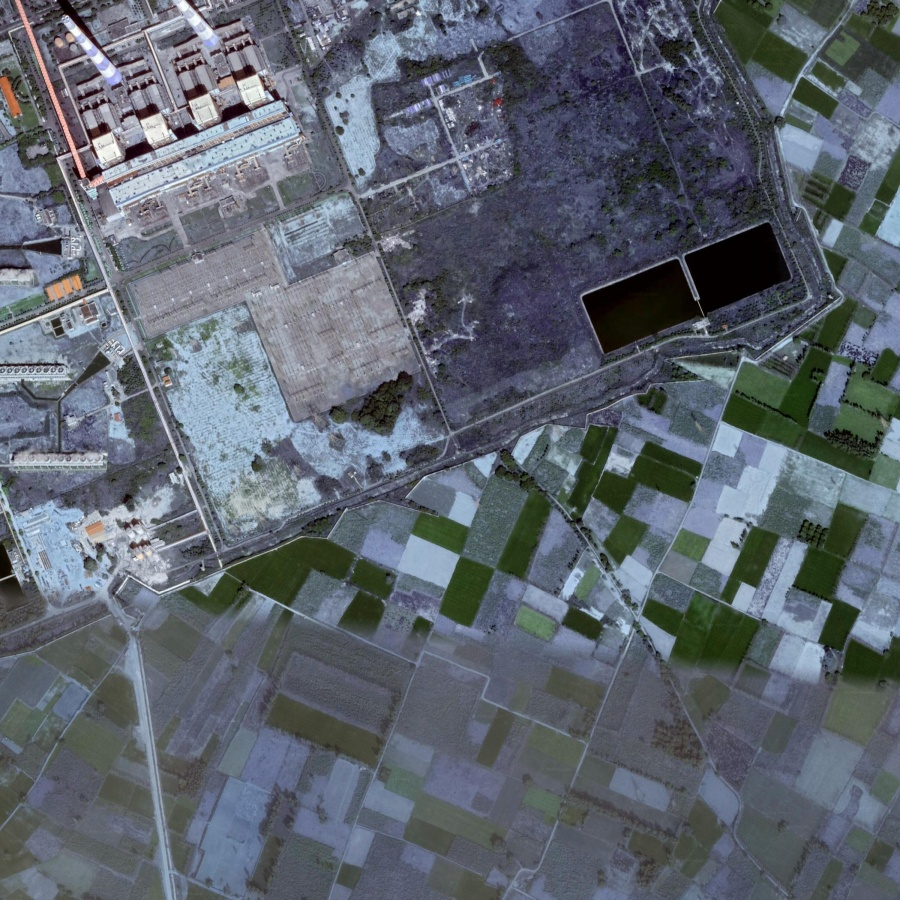PowerPlant: (561, 202, 802, 388)
